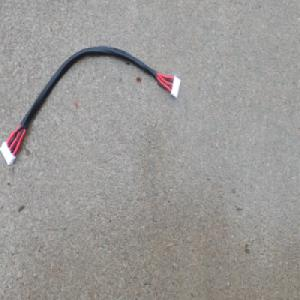Wire: (4, 43, 181, 167)
